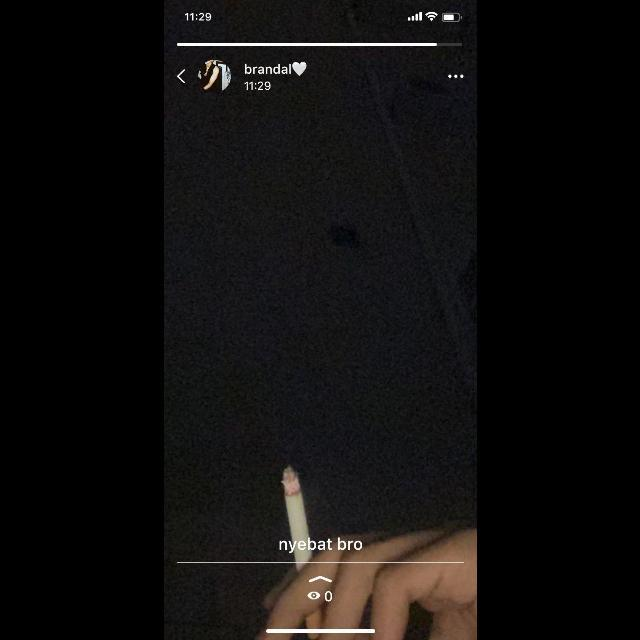rokok: (273, 462, 325, 626)
